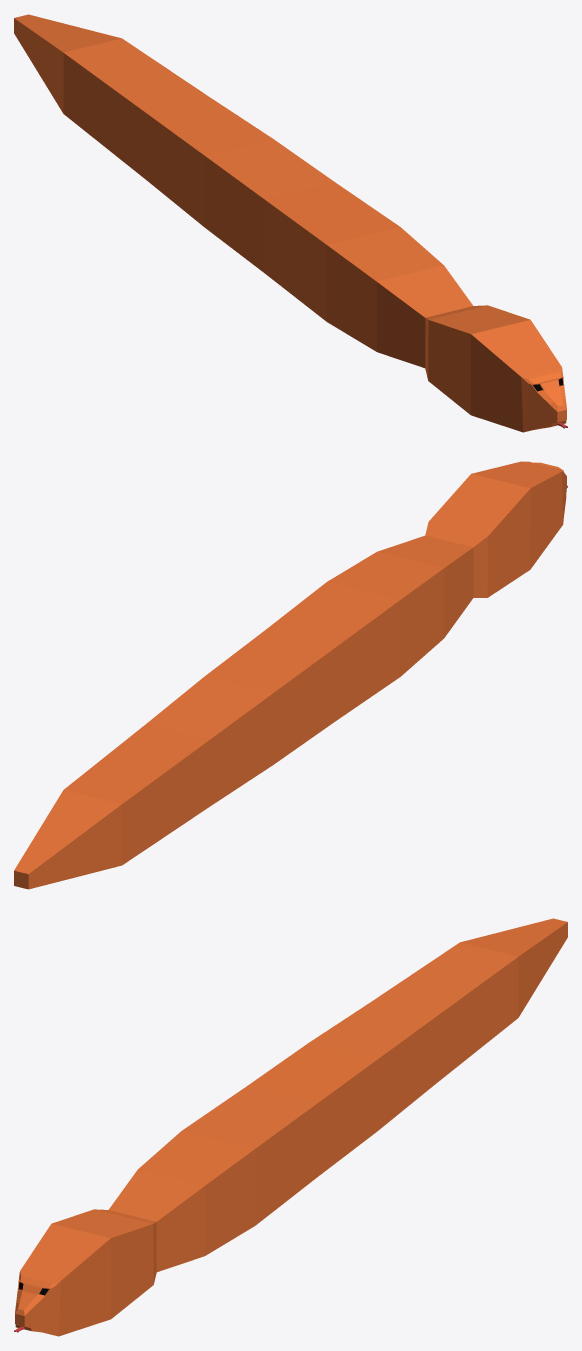
File: obj_snake3.fbx
The picture shows the model from 3 angles, top to bottom: view 1: azimuth 30°, elevation 25°; view 2: azimuth 150°, elevation 25°; view 3: azimuth 330°, elevation 25°; orthographic projection.
Parts seen in each view (by area): view 1: char_snake3; view 2: char_snake3; view 3: char_snake3.
Boxes of the visible parts, x1,y1,x2,y2 form: char_snake3: [14, 14, 567, 432]; char_snake3: [14, 461, 567, 889]; char_snake3: [14, 918, 567, 1336].
Bounding box in the file's own units: 219 × 246 × 2809.
